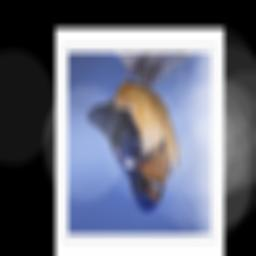Swallow: (72, 55, 182, 216)
